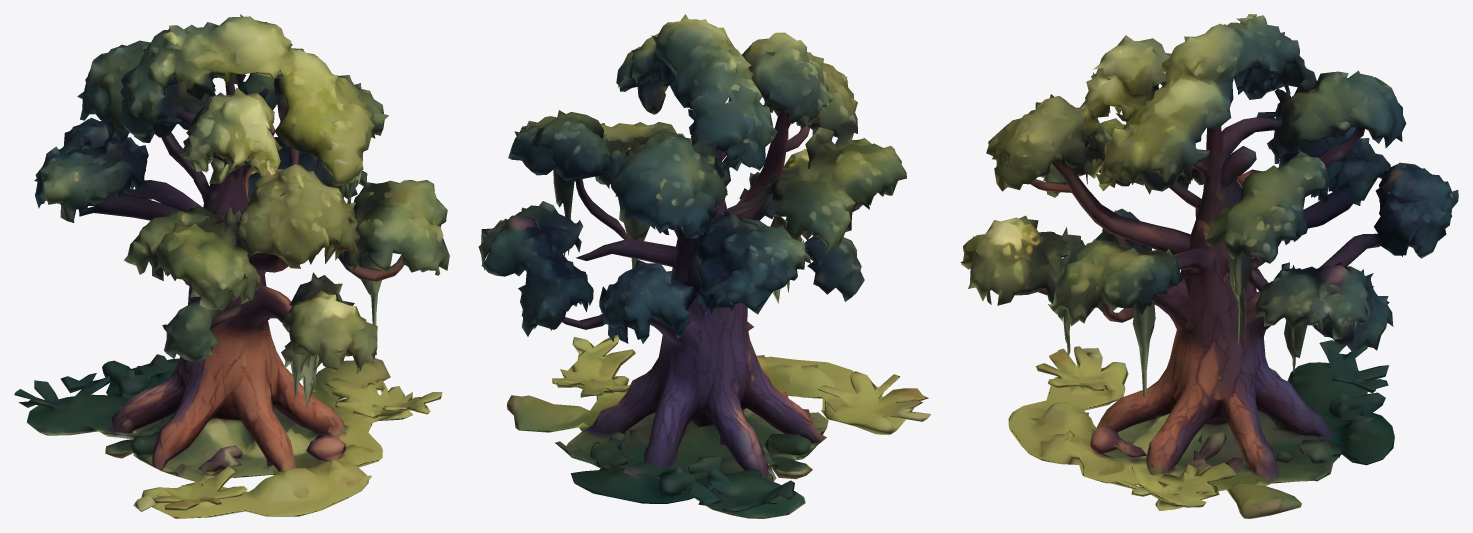
Rendered from ancient.glb.
3 renders of one model, left to right at view 1: azimuth 30°, elevation 25°; view 2: azimuth 150°, elevation 25°; view 3: azimuth 270°, elevation 25°, orthographic.
Visible parts, largest first — view 1: tripo_node_1d02af24-3d97-4046-8836-7c0b30697c45; view 2: tripo_node_1d02af24-3d97-4046-8836-7c0b30697c45; view 3: tripo_node_1d02af24-3d97-4046-8836-7c0b30697c45.
Boxes of the visible parts, x1,y1,x2,y2 form: tripo_node_1d02af24-3d97-4046-8836-7c0b30697c45: (14, 14, 449, 518); tripo_node_1d02af24-3d97-4046-8836-7c0b30697c45: (478, 14, 930, 518); tripo_node_1d02af24-3d97-4046-8836-7c0b30697c45: (960, 14, 1458, 518).
Bounding box in the file's own units: 0.7696 × 0.9231 × 0.9904.
Materials: 1 (1 with a texture image).
